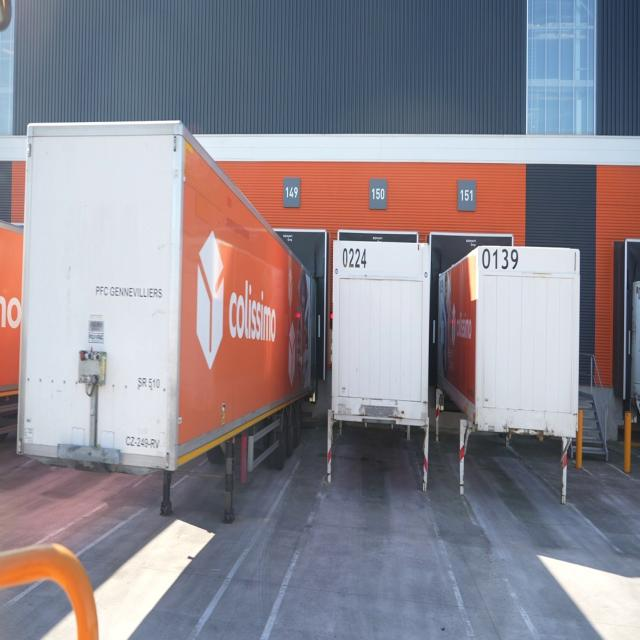Code: (479, 244, 521, 274), (341, 244, 376, 276)
